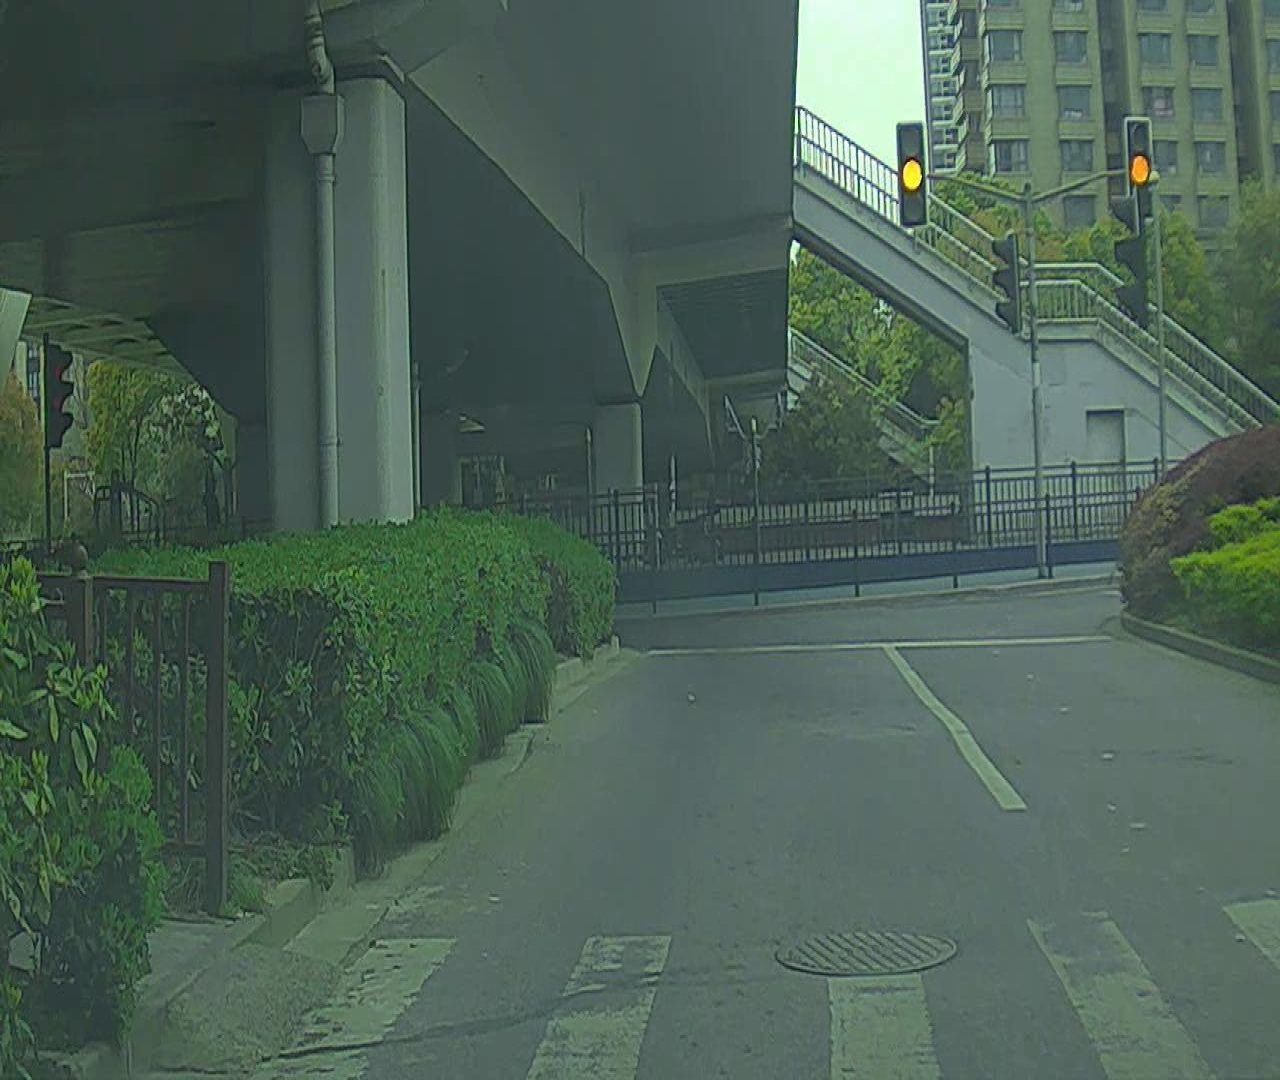yellow: (895, 126, 931, 226), (1125, 117, 1155, 222)
